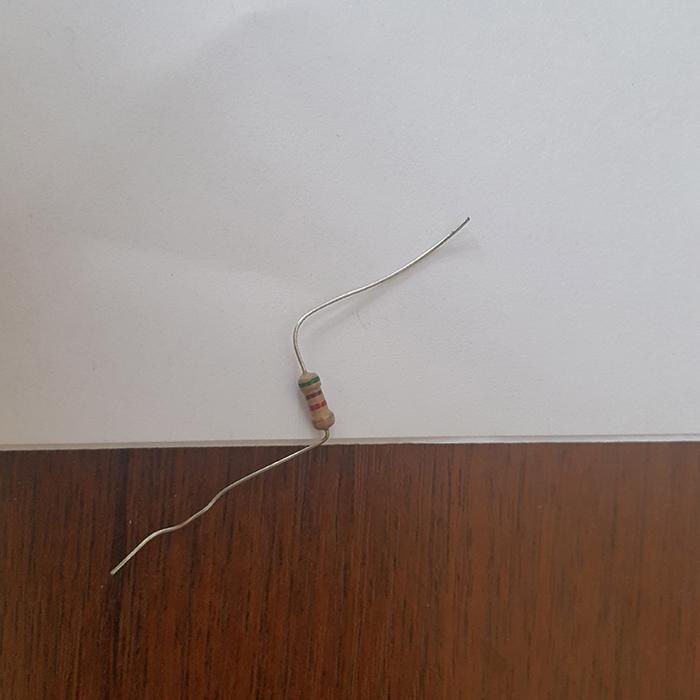resistor: (296, 368, 335, 431)
